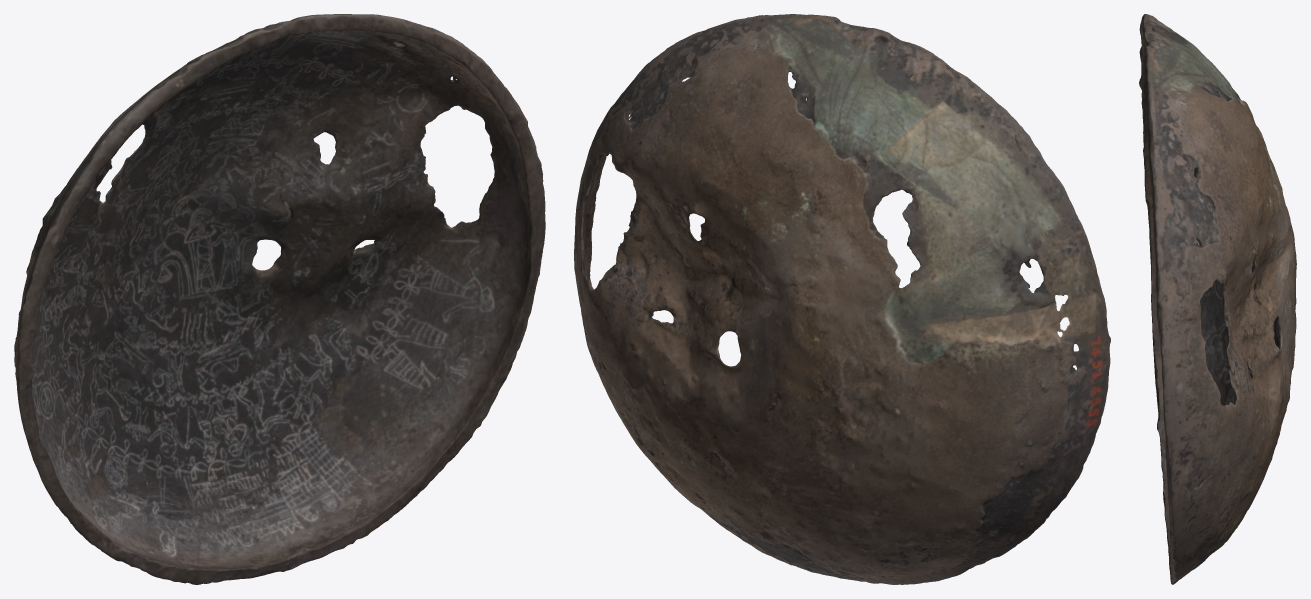
Rendered from preview.glb.
3 renders of one model, left to right at view 1: azimuth 30°, elevation 25°; view 2: azimuth 150°, elevation 25°; view 3: azimuth 270°, elevation 25°, orthographic. The views are drawn at different scales.
Visible parts, largest first — view 1: PHOTS_39134_SilverBowl_n3d; view 2: PHOTS_39134_SilverBowl_n3d; view 3: PHOTS_39134_SilverBowl_n3d.
Part boxes in pixels (left/top/right/bottom): PHOTS_39134_SilverBowl_n3d: left=14, top=14, right=545, bottom=584; PHOTS_39134_SilverBowl_n3d: left=574, top=14, right=1110, bottom=584; PHOTS_39134_SilverBowl_n3d: left=1139, top=14, right=1296, bottom=584.
Bounding box in the file's own units: 0.1526 × 0.1524 × 0.0423.
Materials: 1 (1 with a texture image).
